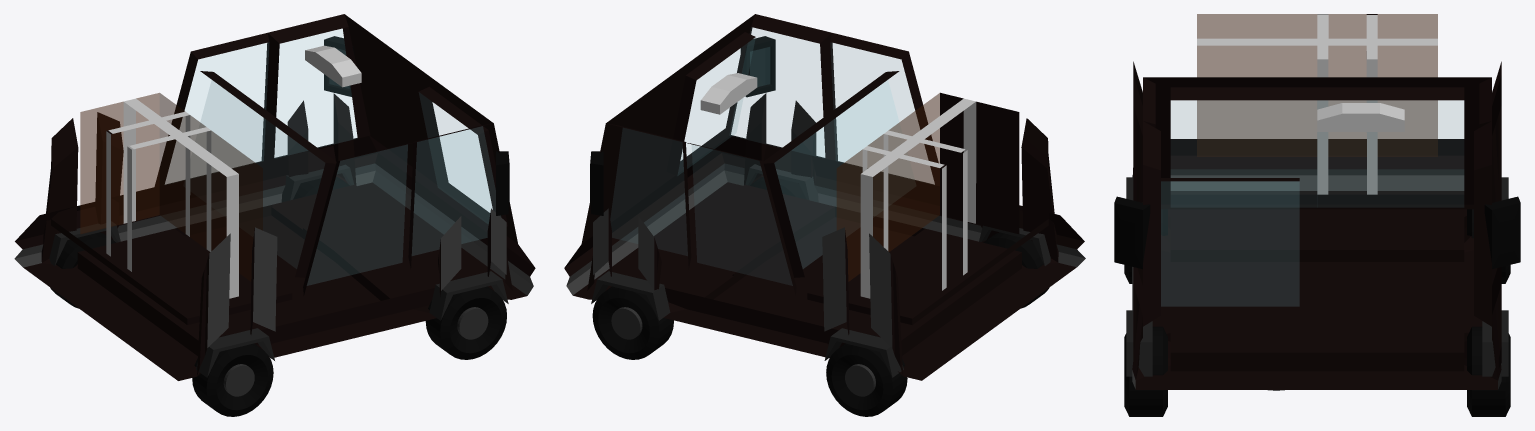
File: Truck.obj
The picture shows the model from 3 angles, left to right: view 1: azimuth 30°, elevation 25°; view 2: azimuth 150°, elevation 25°; view 3: azimuth 270°, elevation 25°; orthographic projection. The views are drawn at different scales.
Parts seen in each view (by area): view 1: Cube_Cube.001, Cylinder_Cylinder.001, Cylinder.001_Cylinder.004, Cube.002_Cube.003, Cube.001_Cube, Cube.003_Cube.002; view 2: Cube_Cube.001, Cylinder_Cylinder.001, Cylinder.001_Cylinder.004, Cube.003_Cube.002, Cube.002_Cube.003, Cube.001_Cube; view 3: Cube_Cube.001, Cube.003_Cube.002, Cylinder.001_Cylinder.004, Cube.002_Cube.003, Cylinder_Cylinder.001.
Part boxes in pixels (x1=…): Cube_Cube.001: x1=14, y1=14, x2=535, y2=380; Cylinder_Cylinder.001: x1=50, y1=232, x2=273, y2=416; Cylinder.001_Cylinder.004: x1=293, y1=176, x2=506, y2=359; Cube.002_Cube.003: x1=281, y1=164, x2=508, y2=320; Cube.001_Cube: x1=49, y1=221, x2=274, y2=377; Cube.003_Cube.002: x1=324, y1=36, x2=509, y2=215; Cube_Cube.001: x1=564, y1=14, x2=1085, y2=380; Cylinder_Cylinder.001: x1=826, y1=232, x2=1049, y2=416; Cylinder.001_Cylinder.004: x1=592, y1=176, x2=806, y2=359; Cube.003_Cube.002: x1=590, y1=36, x2=775, y2=215; Cube.002_Cube.003: x1=591, y1=164, x2=818, y2=320; Cube.001_Cube: x1=824, y1=225, x2=1050, y2=377; Cube_Cube.001: x1=1132, y1=14, x2=1501, y2=389; Cube.003_Cube.002: x1=1114, y1=196, x2=1520, y2=269; Cylinder.001_Cylinder.004: x1=1124, y1=326, x2=1510, y2=416; Cube.002_Cube.003: x1=1126, y1=310, x2=1508, y2=376; Cylinder_Cylinder.001: x1=1124, y1=209, x2=1510, y2=283.
Bounding box in the file's own units: 15 × 9.48 × 12.43.
